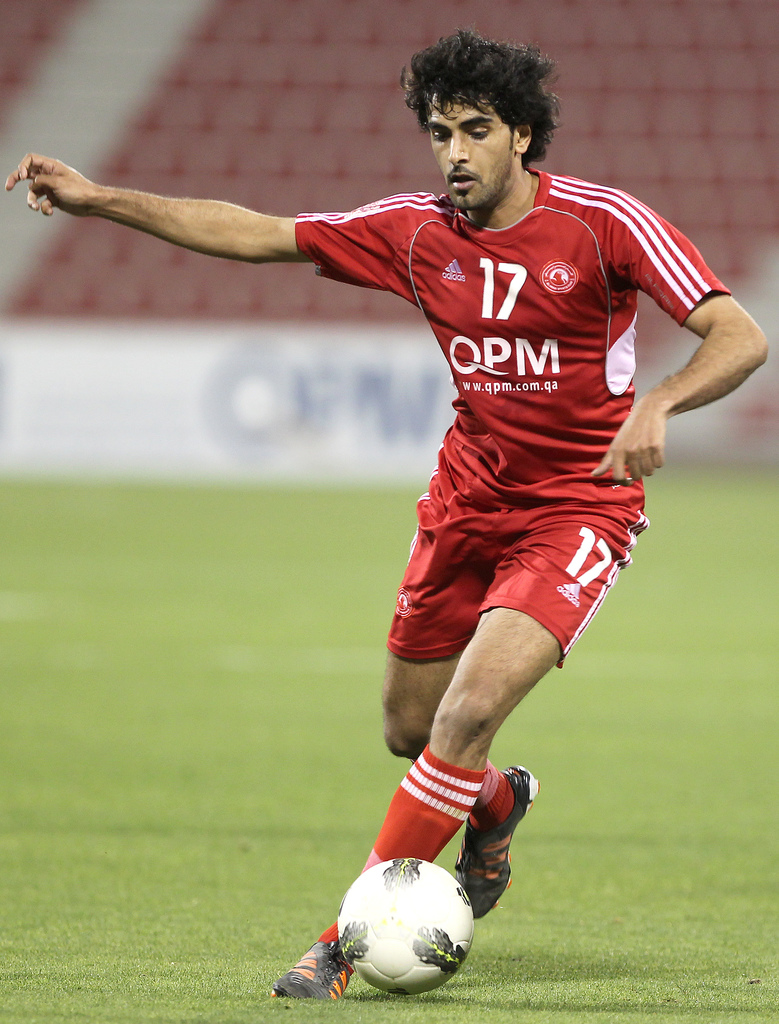Footwear: (456, 767, 550, 922), (278, 929, 356, 1012)
